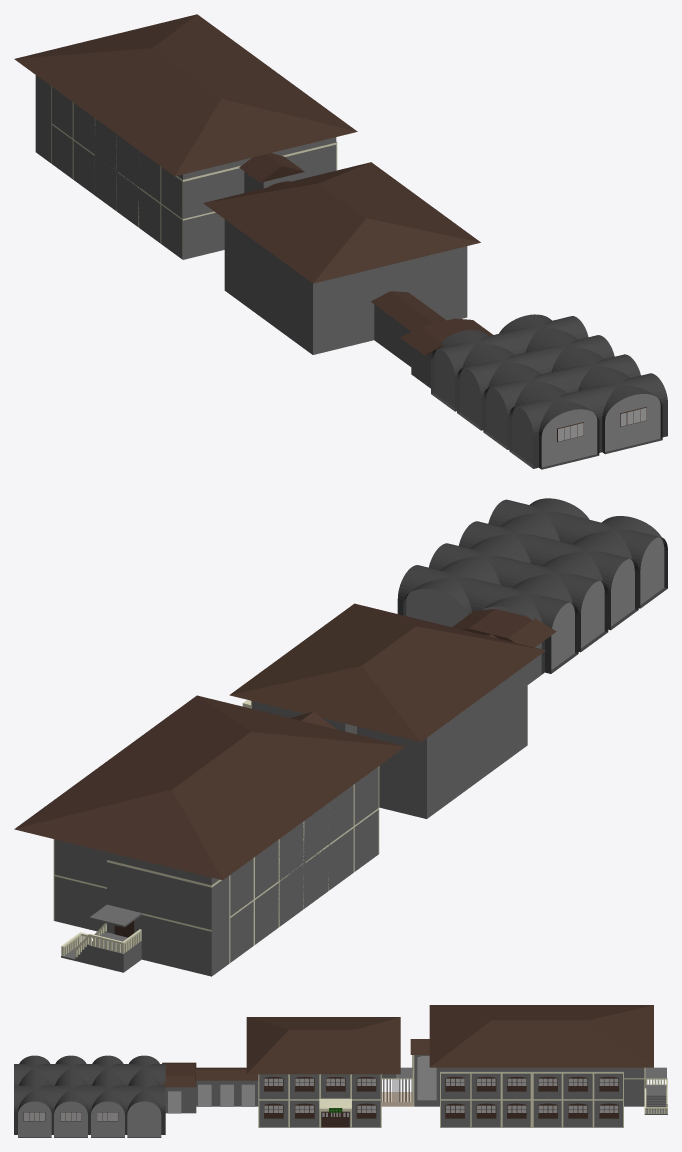
The model's file is hotelrafael.fbx.
3 renders of one model, top to bottom at view 1: azimuth 30°, elevation 25°; view 2: azimuth 150°, elevation 25°; view 3: azimuth 270°, elevation 25°, orthographic. The views are drawn at different scales.
Parts seen in each view (by area): view 1: Cube.053, Cube.049, Cube.012, Cube, Cube.041, Cube.040, Cube.042, Cube.044, Cube.043, Cube.045, Cube.055, Cube.054; view 2: Cube.053, Cube.012, Cube.049, Cube, Cube.041, Cube.040, Cube.045, Cube.043, Cube.044, Cube.042, Cube.055, Cube.026; view 3: Cube.053, Cube.012, Cube.049, Cube, Cube.041, Cube.045, Cube.044, Cube.042, Cube.043, Cube.040, Cube.055, Cube.024 (+32 smaller).
Boxes of the visible parts, x1,y1,x2,y2 form: Cube.053: [14, 14, 357, 176]; Cube.049: [203, 162, 480, 283]; Cube.012: [35, 75, 337, 259]; Cube: [224, 219, 467, 388]; Cube.041: [499, 314, 662, 454]; Cube.040: [440, 330, 599, 469]; Cube.042: [509, 373, 667, 468]; Cube.044: [457, 335, 614, 430]; Cube.043: [483, 354, 640, 449]; Cube.045: [431, 316, 588, 411]; Cube.055: [371, 291, 492, 355]; Cube.054: [239, 153, 304, 182]; Cube.053: [14, 695, 405, 880]; Cube.012: [53, 766, 379, 976]; Cube.049: [229, 603, 545, 741]; Cube: [251, 643, 541, 818]; Cube.041: [403, 498, 589, 627]; Cube.040: [481, 516, 661, 674]; Cube.045: [397, 565, 578, 673]; Cube.043: [458, 521, 638, 630]; Cube.044: [428, 543, 608, 652]; Cube.042: [488, 499, 667, 608]; Cube.055: [452, 609, 556, 647]; Cube.026: [89, 932, 141, 972]; Cube.053: [429, 1005, 653, 1067]; Cube.012: [381, 1055, 666, 1127]; Cube.049: [246, 1017, 400, 1074]; Cube: [165, 1074, 395, 1127]; Cube.041: [14, 1085, 165, 1134]; Cube.045: [127, 1055, 161, 1137]; Cube.044: [91, 1055, 124, 1137]; Cube.042: [18, 1055, 51, 1137]; Cube.043: [54, 1055, 87, 1137]; Cube.040: [14, 1064, 165, 1085]; Cube.055: [162, 1062, 258, 1087]; Cube.024: [417, 1056, 436, 1100].
Size of the model in its own units: 5198 by 2881 by 21107.
